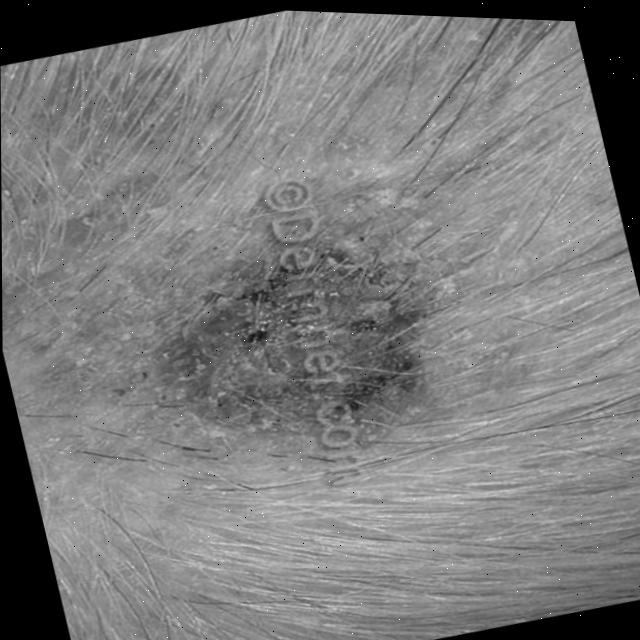Eczema: (99, 132, 524, 516)
